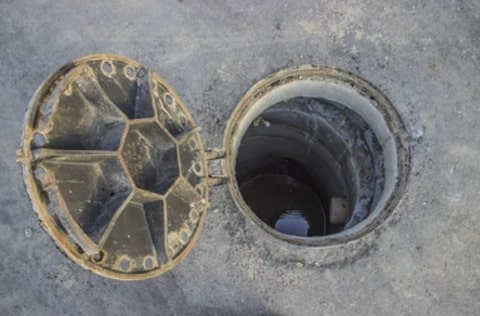open_manhole: (223, 56, 405, 243)
